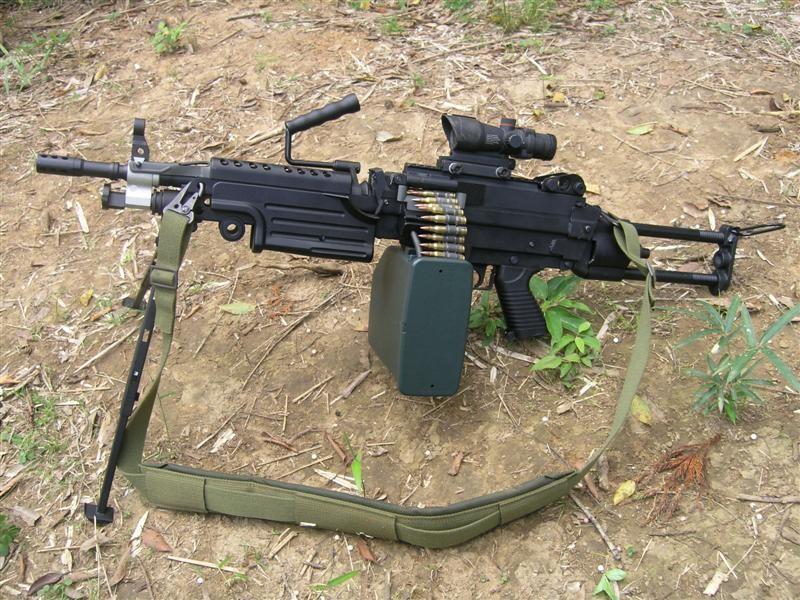rifle: (35, 62, 742, 528)
